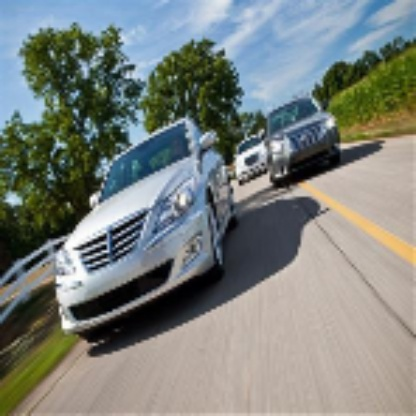Vehicle: (54, 114, 241, 345)
